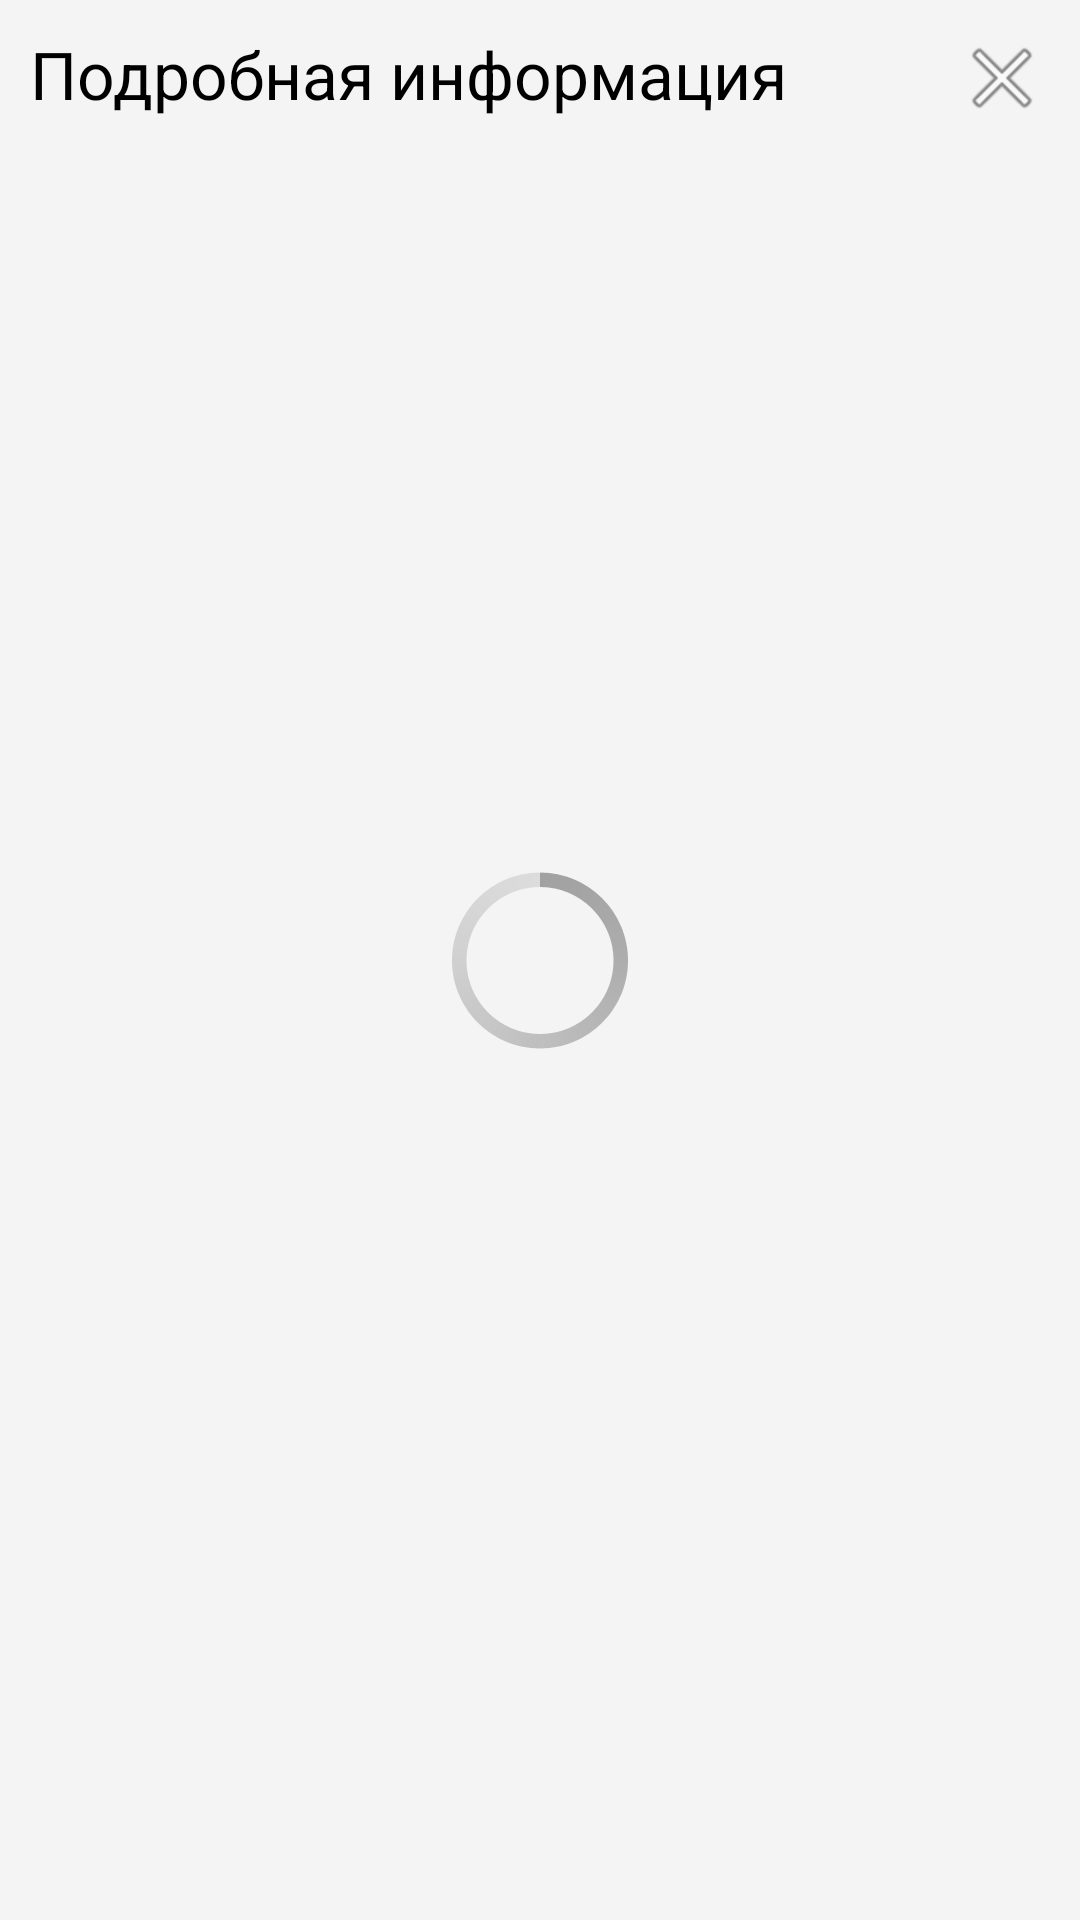

Icon bounding boxes for this 1080 x 1920 phone screenshot, format detection(x1, y1, x2, y2):
close clear cancel: detection(972, 48, 1032, 108)
